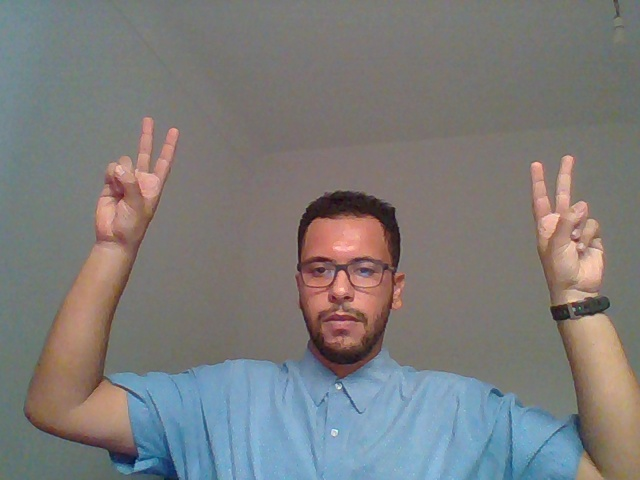vectory: (500, 135, 637, 438), (49, 112, 198, 347)
